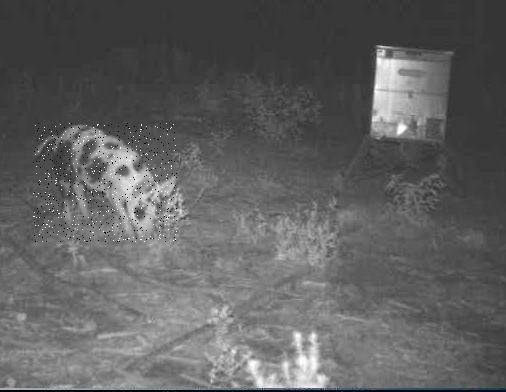Hog: (33, 123, 177, 242)
